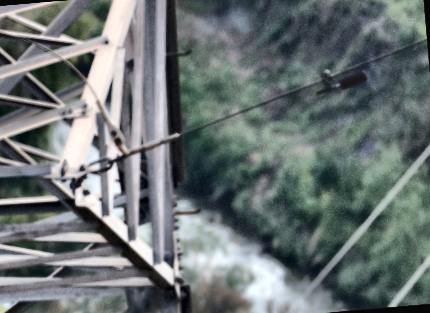damper_defect: (312, 66, 370, 96)
